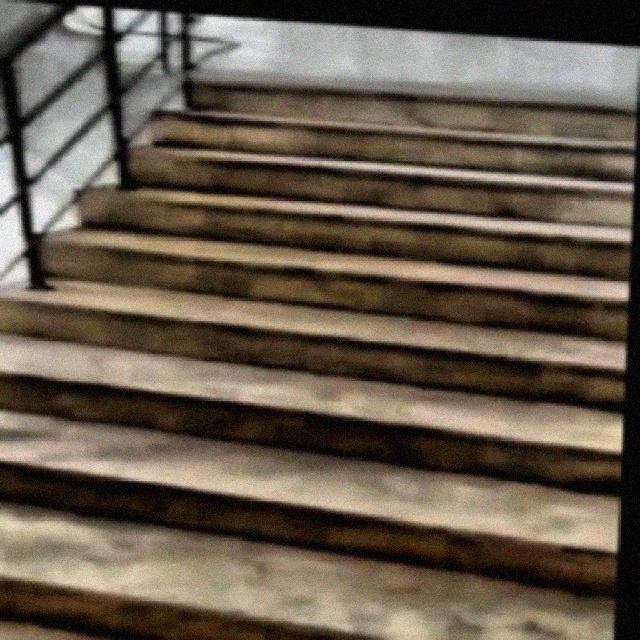stair: (0, 51, 637, 638)
